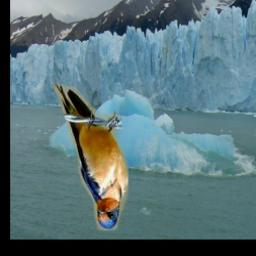Swallow: (54, 83, 129, 230)
